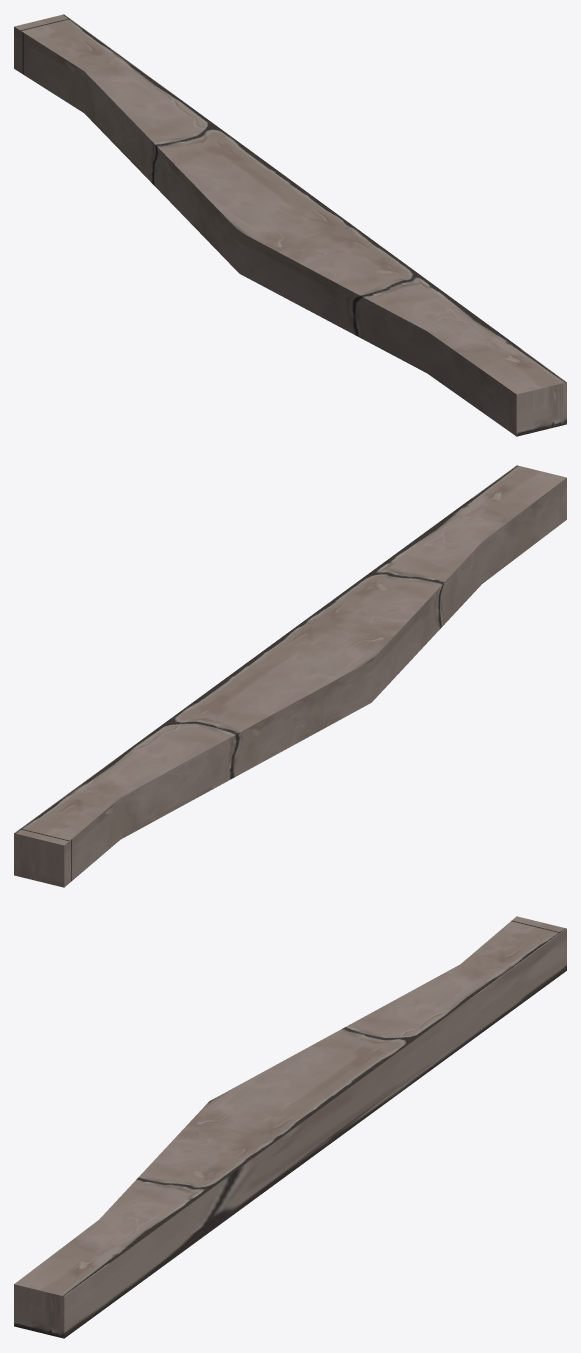
The model's file is WallBase1.fbx.
The picture shows the model from 3 angles, top to bottom: view 1: azimuth 30°, elevation 25°; view 2: azimuth 150°, elevation 25°; view 3: azimuth 330°, elevation 25°; orthographic projection.
Visible parts, largest first — view 1: pCube9; view 2: pCube9; view 3: pCube9.
Part boxes in pixels (x1,y1,x2,y2): pCube9: [14, 14, 566, 436]; pCube9: [14, 465, 566, 887]; pCube9: [14, 916, 566, 1338].
Size of the model in its own units: 1.7 by 0.7495 by 16.2.
